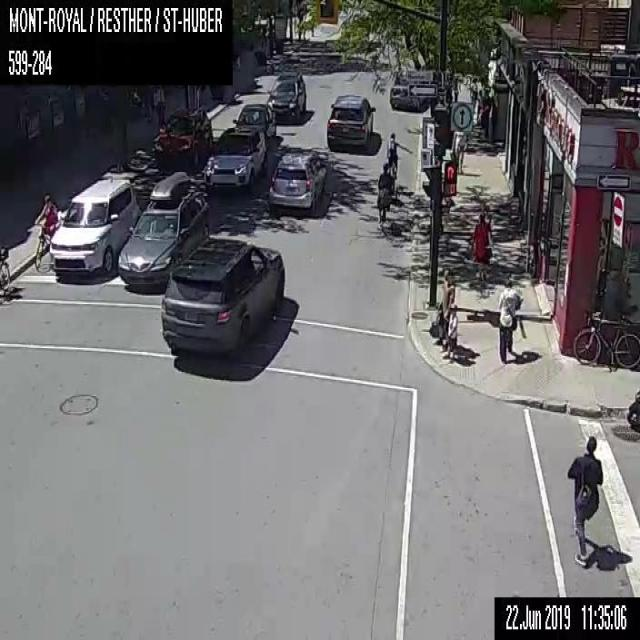cyclist: (34, 194, 58, 268), (376, 162, 394, 222), (385, 132, 398, 178)
pedestrian: (566, 434, 602, 562), (496, 275, 523, 364), (429, 270, 455, 352), (472, 212, 492, 286), (442, 302, 457, 360), (451, 130, 466, 172), (152, 85, 164, 124), (482, 88, 491, 136), (468, 79, 476, 112), (476, 88, 482, 124), (453, 83, 458, 100)
vehicle: (160, 238, 284, 355), (117, 169, 208, 288), (49, 178, 140, 274), (203, 126, 266, 190), (266, 148, 326, 213), (154, 106, 212, 168), (326, 93, 375, 148), (266, 71, 306, 119), (388, 68, 429, 110), (232, 103, 276, 138), (0, 244, 8, 288)
